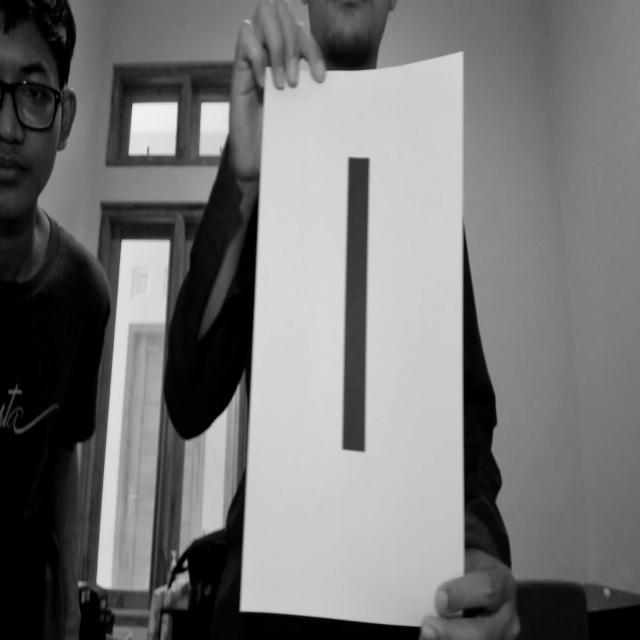i: (330, 128, 388, 476)
